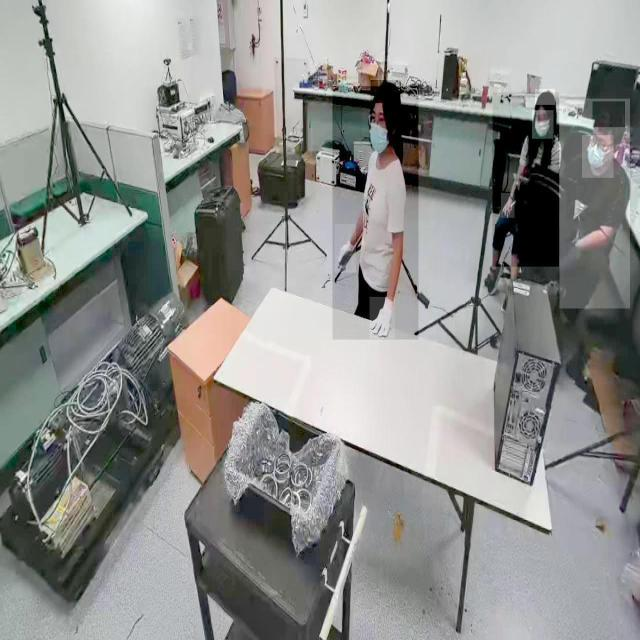face_mask: (362, 111, 389, 163), (582, 135, 614, 178), (532, 110, 554, 139)
glasses: (366, 110, 390, 130)
hand_glove: (334, 224, 356, 274), (370, 297, 396, 339)
hand_noglove: (501, 193, 515, 219)
head_nohelmet: (592, 101, 626, 128), (371, 80, 402, 104), (535, 89, 555, 106)
person: (333, 87, 419, 340), (560, 99, 630, 309), (492, 92, 560, 268)
